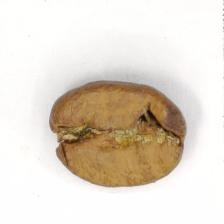NG: (58, 101, 184, 160)
